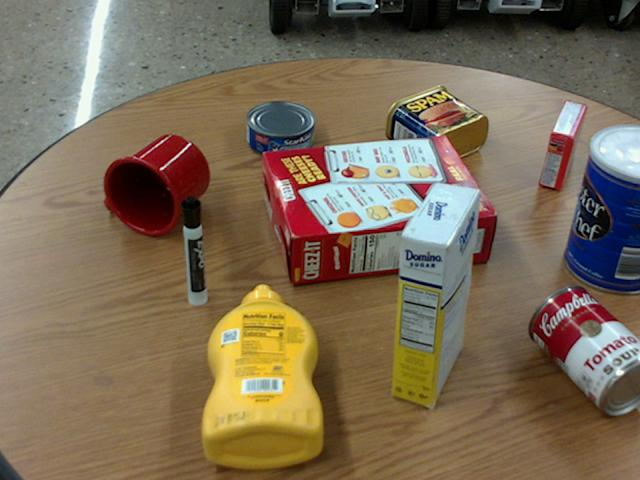cracker_box: (261, 135, 493, 284)
gelatin_box: (539, 101, 585, 189)
large_marker: (180, 195, 205, 304)
master_chef_can: (564, 125, 639, 293)
mug: (103, 134, 208, 235)
mustard_bottle: (202, 284, 323, 467)
potted_meat_can: (385, 85, 488, 164)
sugar_box: (391, 182, 480, 406)
tomato_soup_can: (529, 284, 639, 411)
tuna_fish_can: (246, 100, 314, 156)
